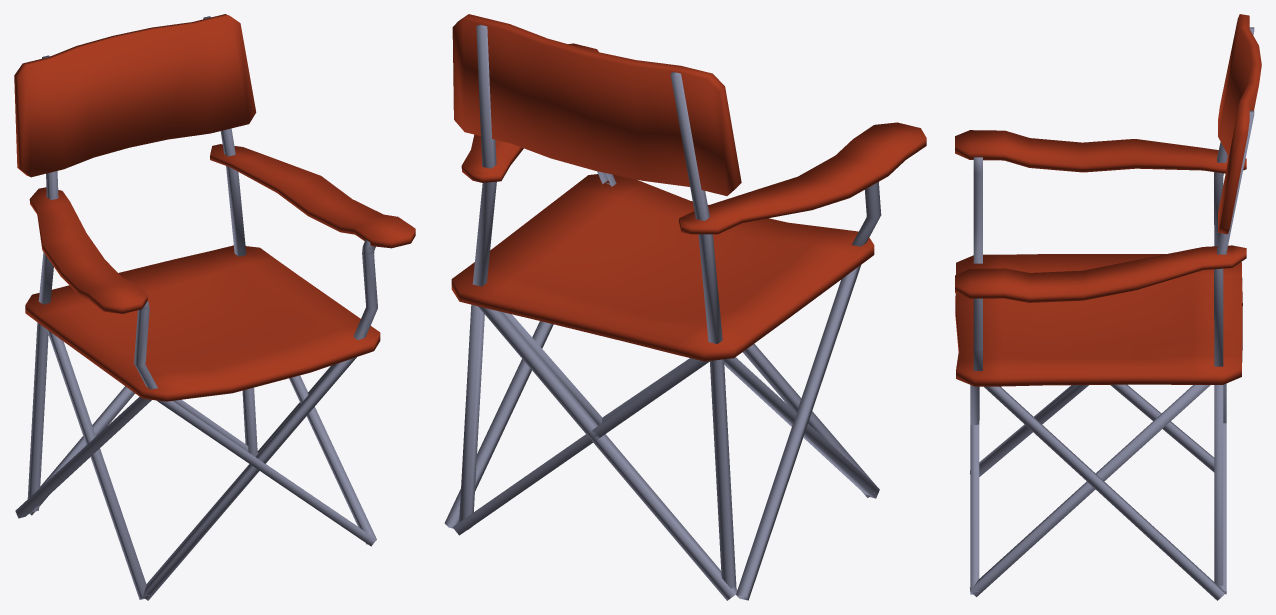
File: CampChair.fbx
The picture shows the model from 3 angles, left to right: view 1: azimuth 30°, elevation 25°; view 2: azimuth 150°, elevation 25°; view 3: azimuth 270°, elevation 25°; orthographic projection. The views are drawn at different scales.
Visible parts, largest first — view 1: Cube; view 2: Cube; view 3: Cube.
Boxes of the visible parts, x1,y1,x2,y2 form: Cube: (14,14,415,600); Cube: (444,14,926,600); Cube: (955,14,1261,600).
Size of the model in its own units: 425 by 574 by 341.
